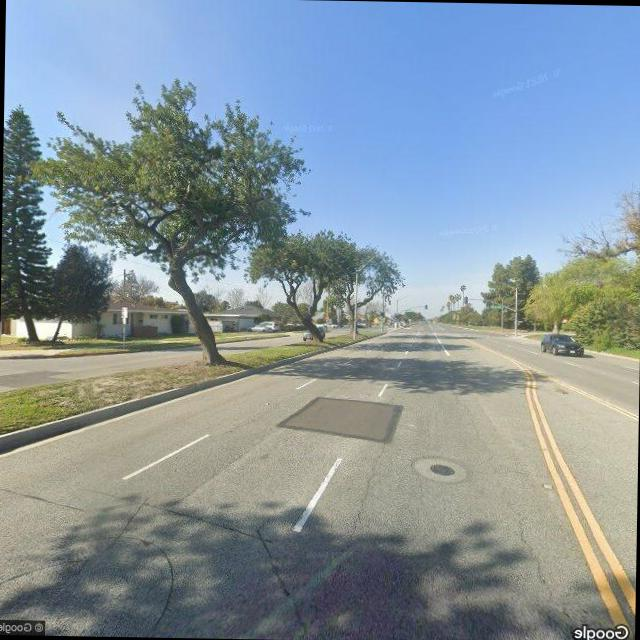pothole: (514, 518, 572, 622), (349, 468, 378, 535)
